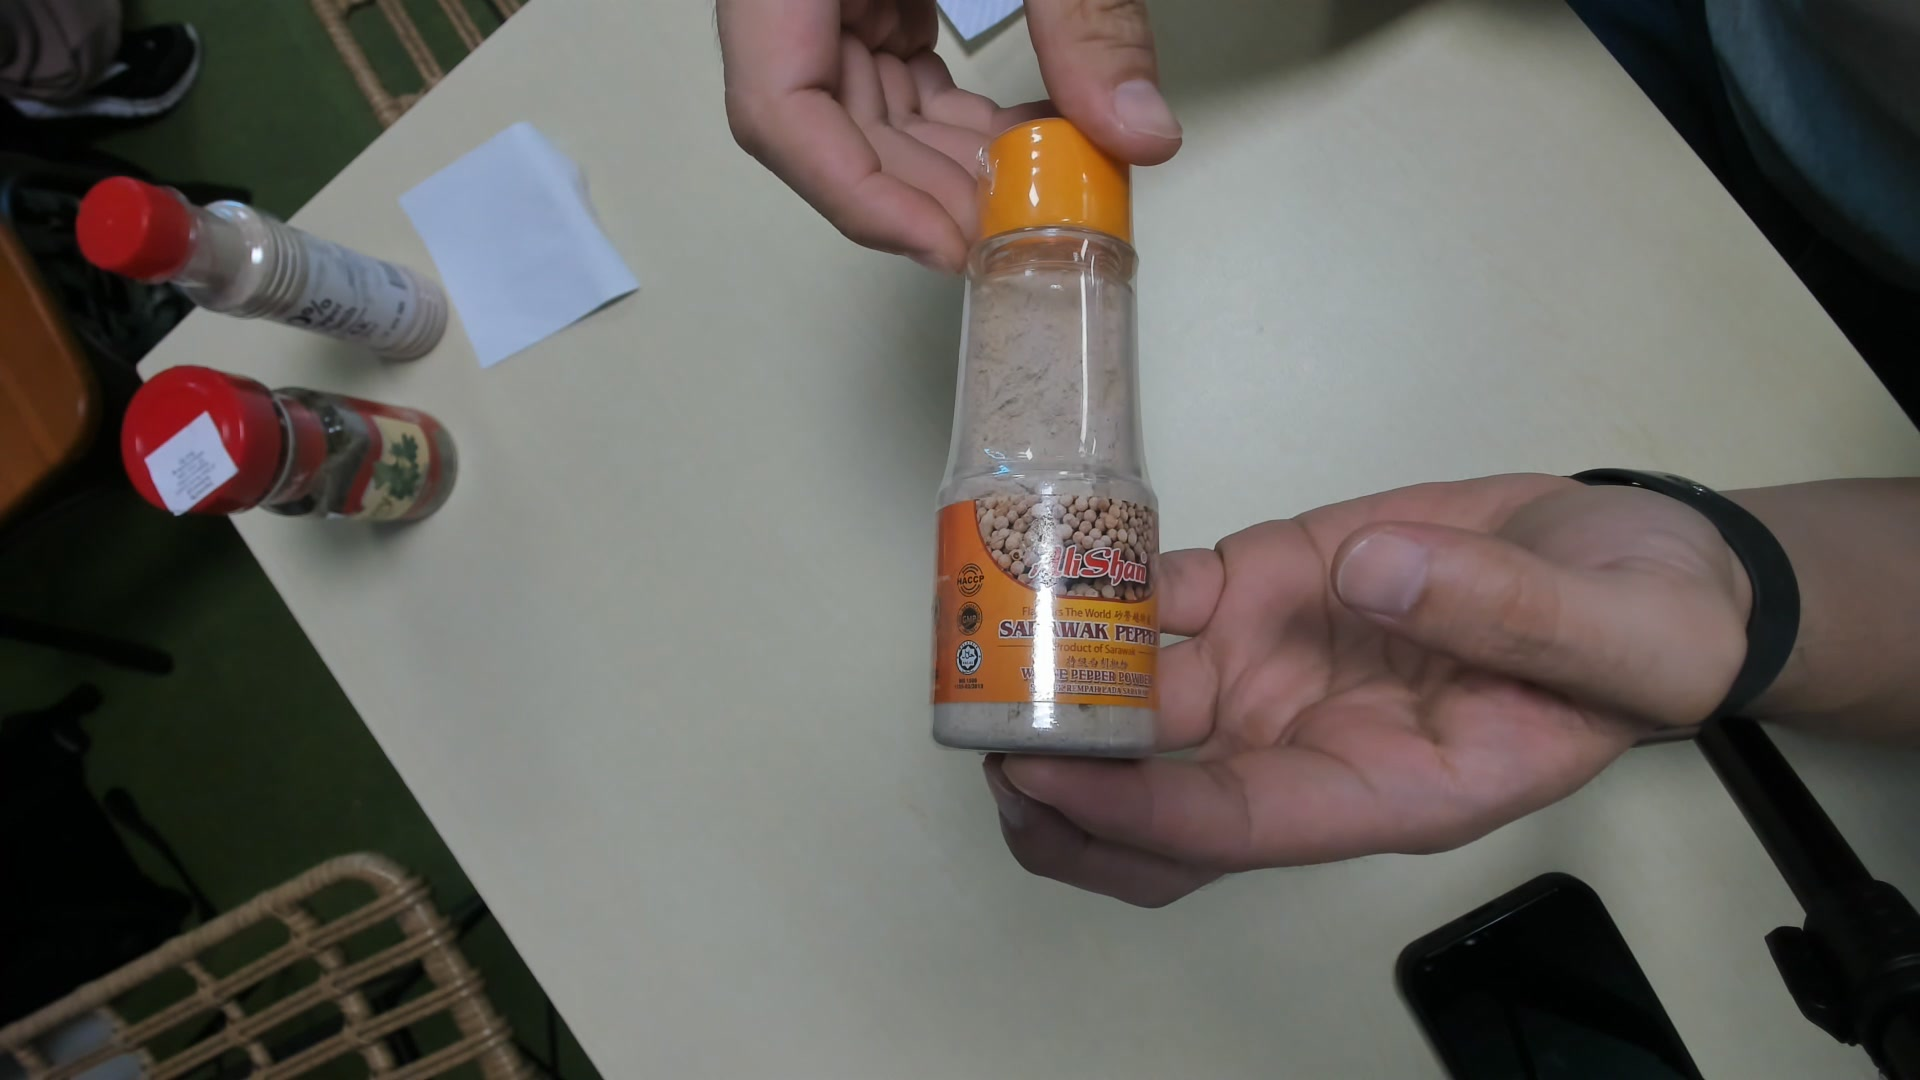HerbsSpicesPepper_400-499g_Halal_NonHealthy: (916, 116, 1168, 756)
